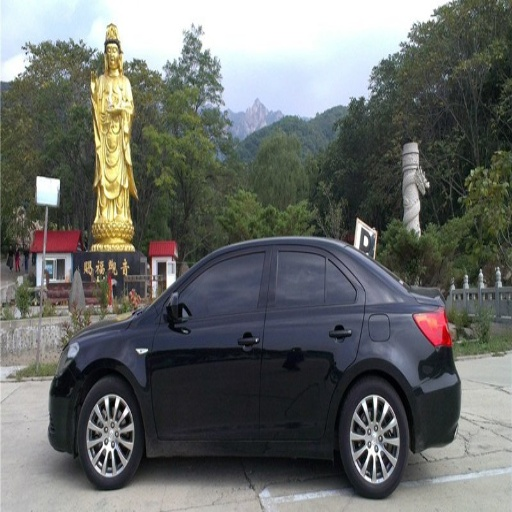back_left_door: (261, 244, 364, 437)
front_left_door: (150, 244, 270, 440)
